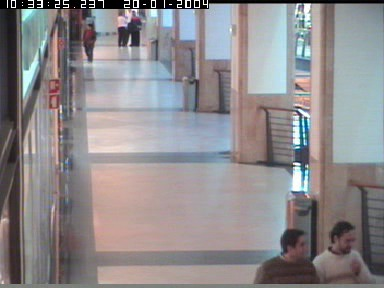person: (307, 220, 377, 284), (252, 228, 321, 284), (127, 10, 143, 47), (83, 23, 96, 63), (115, 11, 126, 47)
